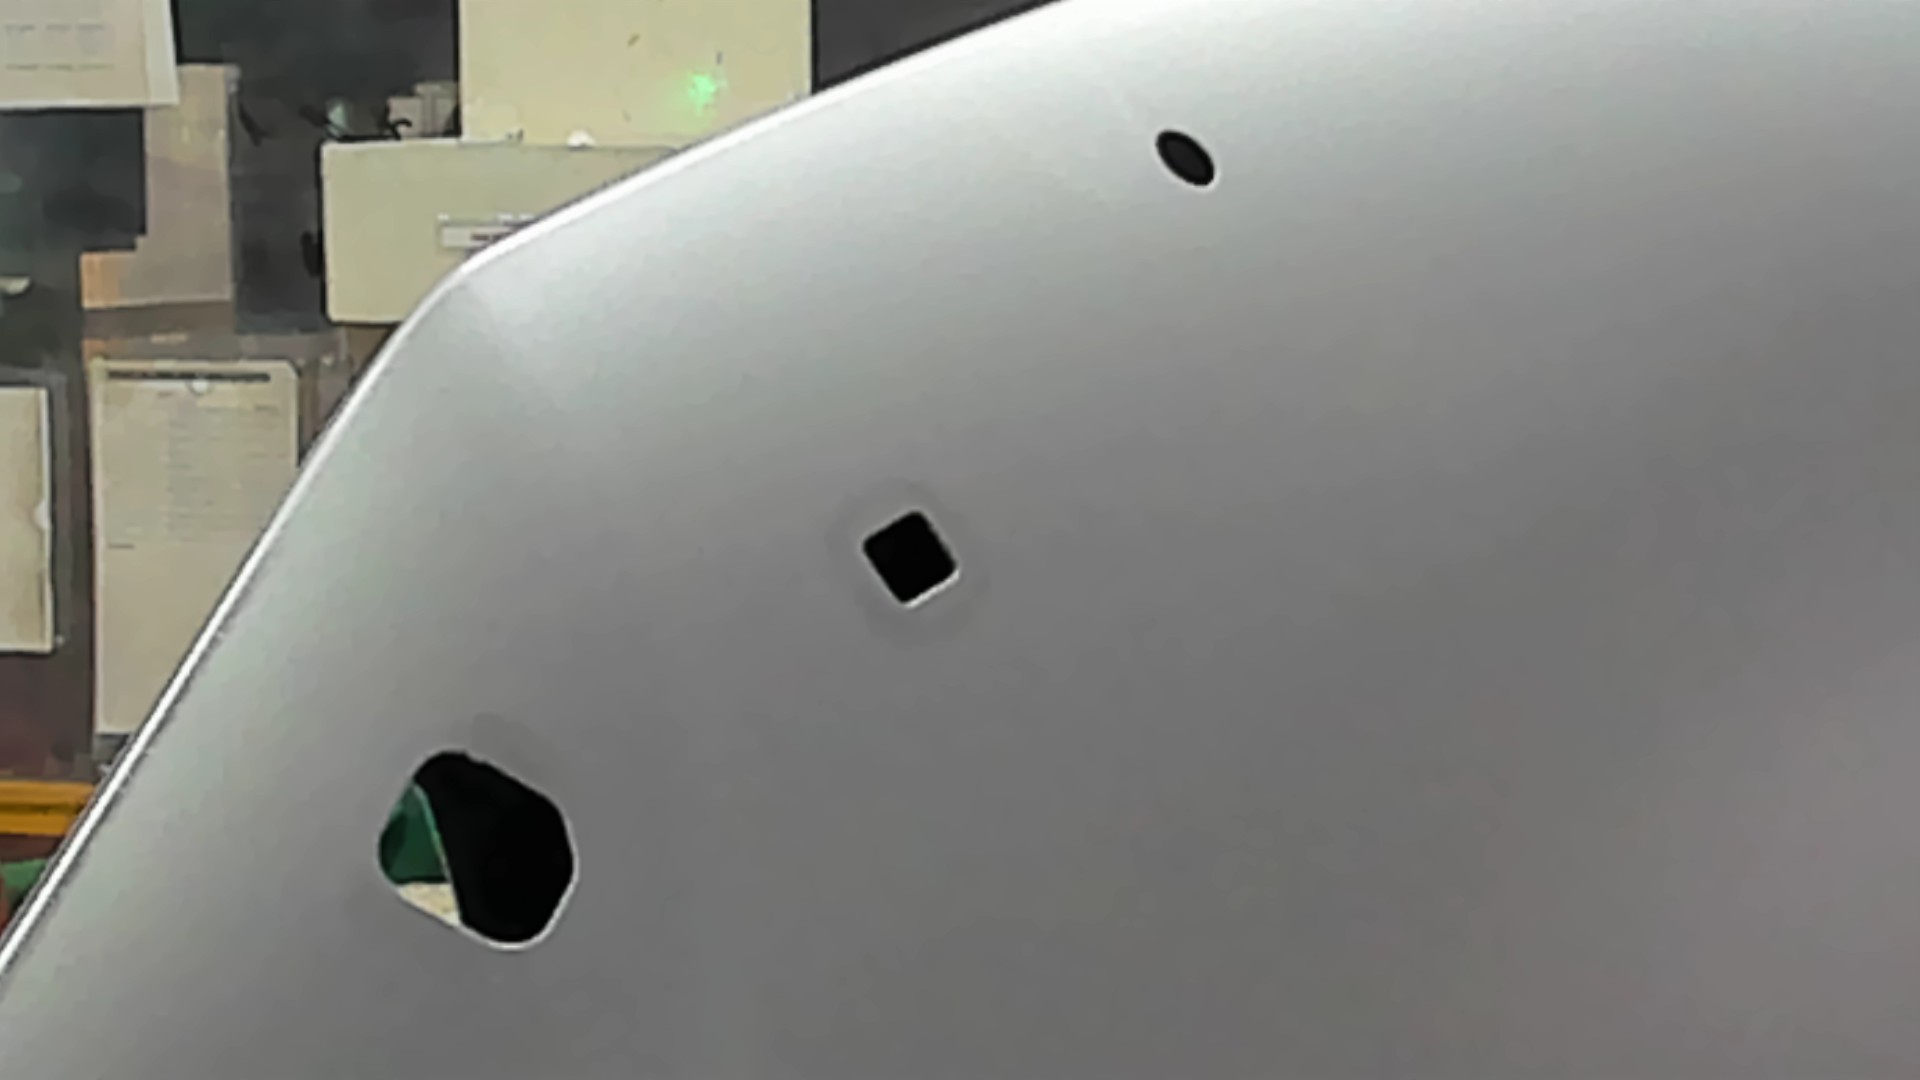chico: (1143, 120, 1241, 203)
grande: (360, 733, 600, 963)
mediano: (851, 495, 980, 620)
